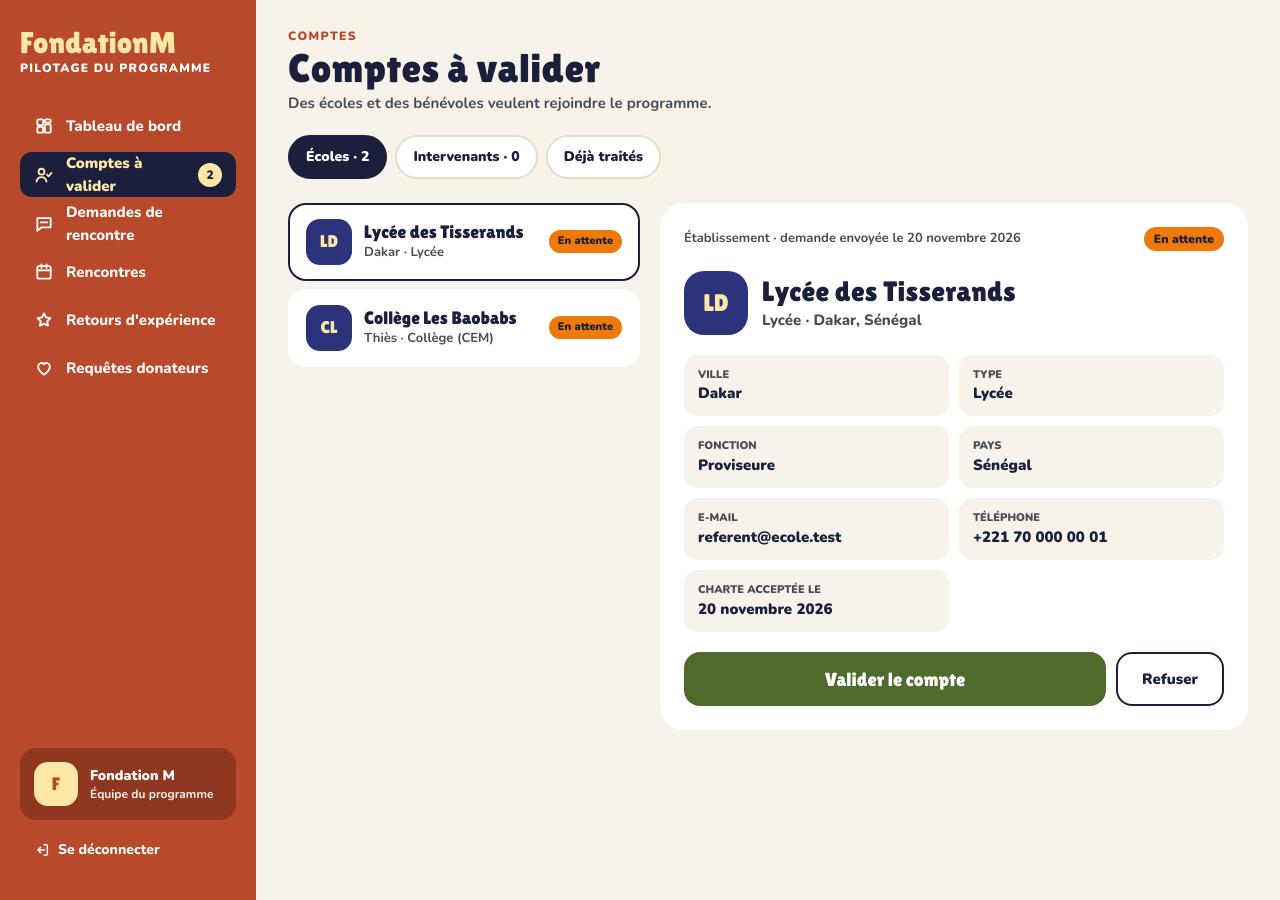
Scenario: Comptes à valider — listes et détail › sélectionne un compte et l’inscrit dans l’URL
The image size is (1280, 900).
Click the button "CL Collège Les Baobabs Thiès · Collège (CEM) En attente".
click(464, 328)  # box x1=288 y1=288 x2=640 y2=366
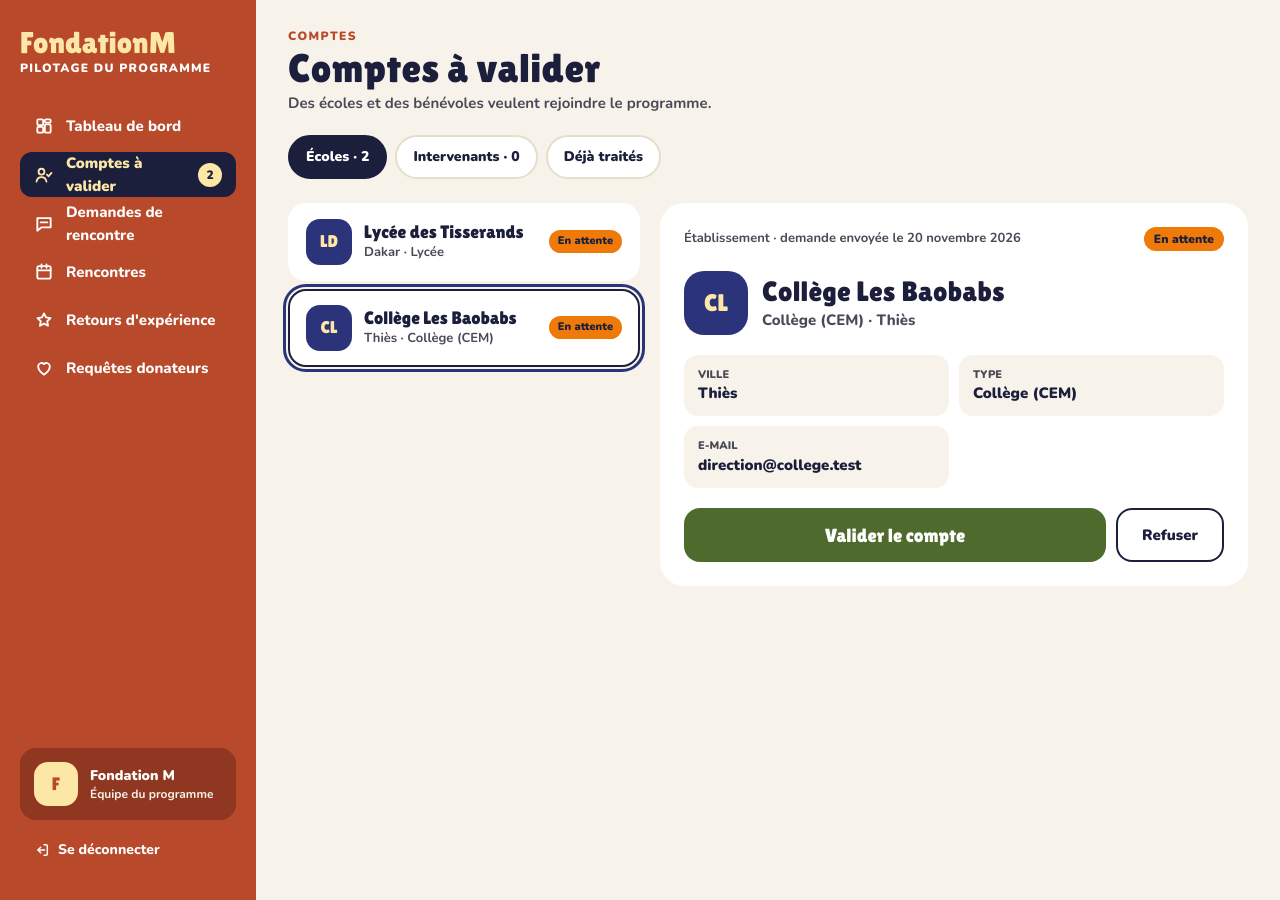
Check: the heading "Collège Les Baobabs" is shown, box x1=762 y1=274 x2=1005 y2=309
